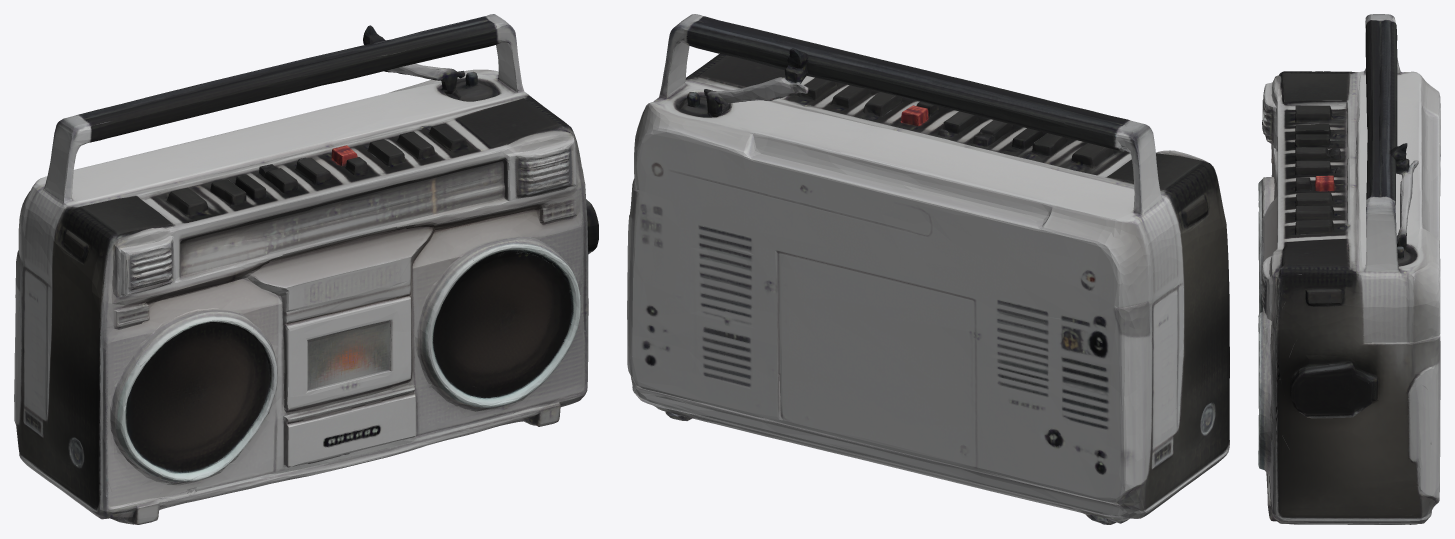
File: asset.glb
3 views of the same model, side by side, from view 1: azimuth 30°, elevation 25°; view 2: azimuth 150°, elevation 25°; view 3: azimuth 270°, elevation 25° (orthographic). The views are drawn at different scales.
Visible parts, largest first — view 1: world; view 2: world; view 3: world.
Part boxes in pixels (x1,y1,x2,y2): world: (14, 14, 598, 524); world: (627, 14, 1229, 524); world: (1258, 14, 1440, 524).
Bounding box in the file's own units: 0.9984 × 0.6959 × 0.345.
1 material, 1 textured.
